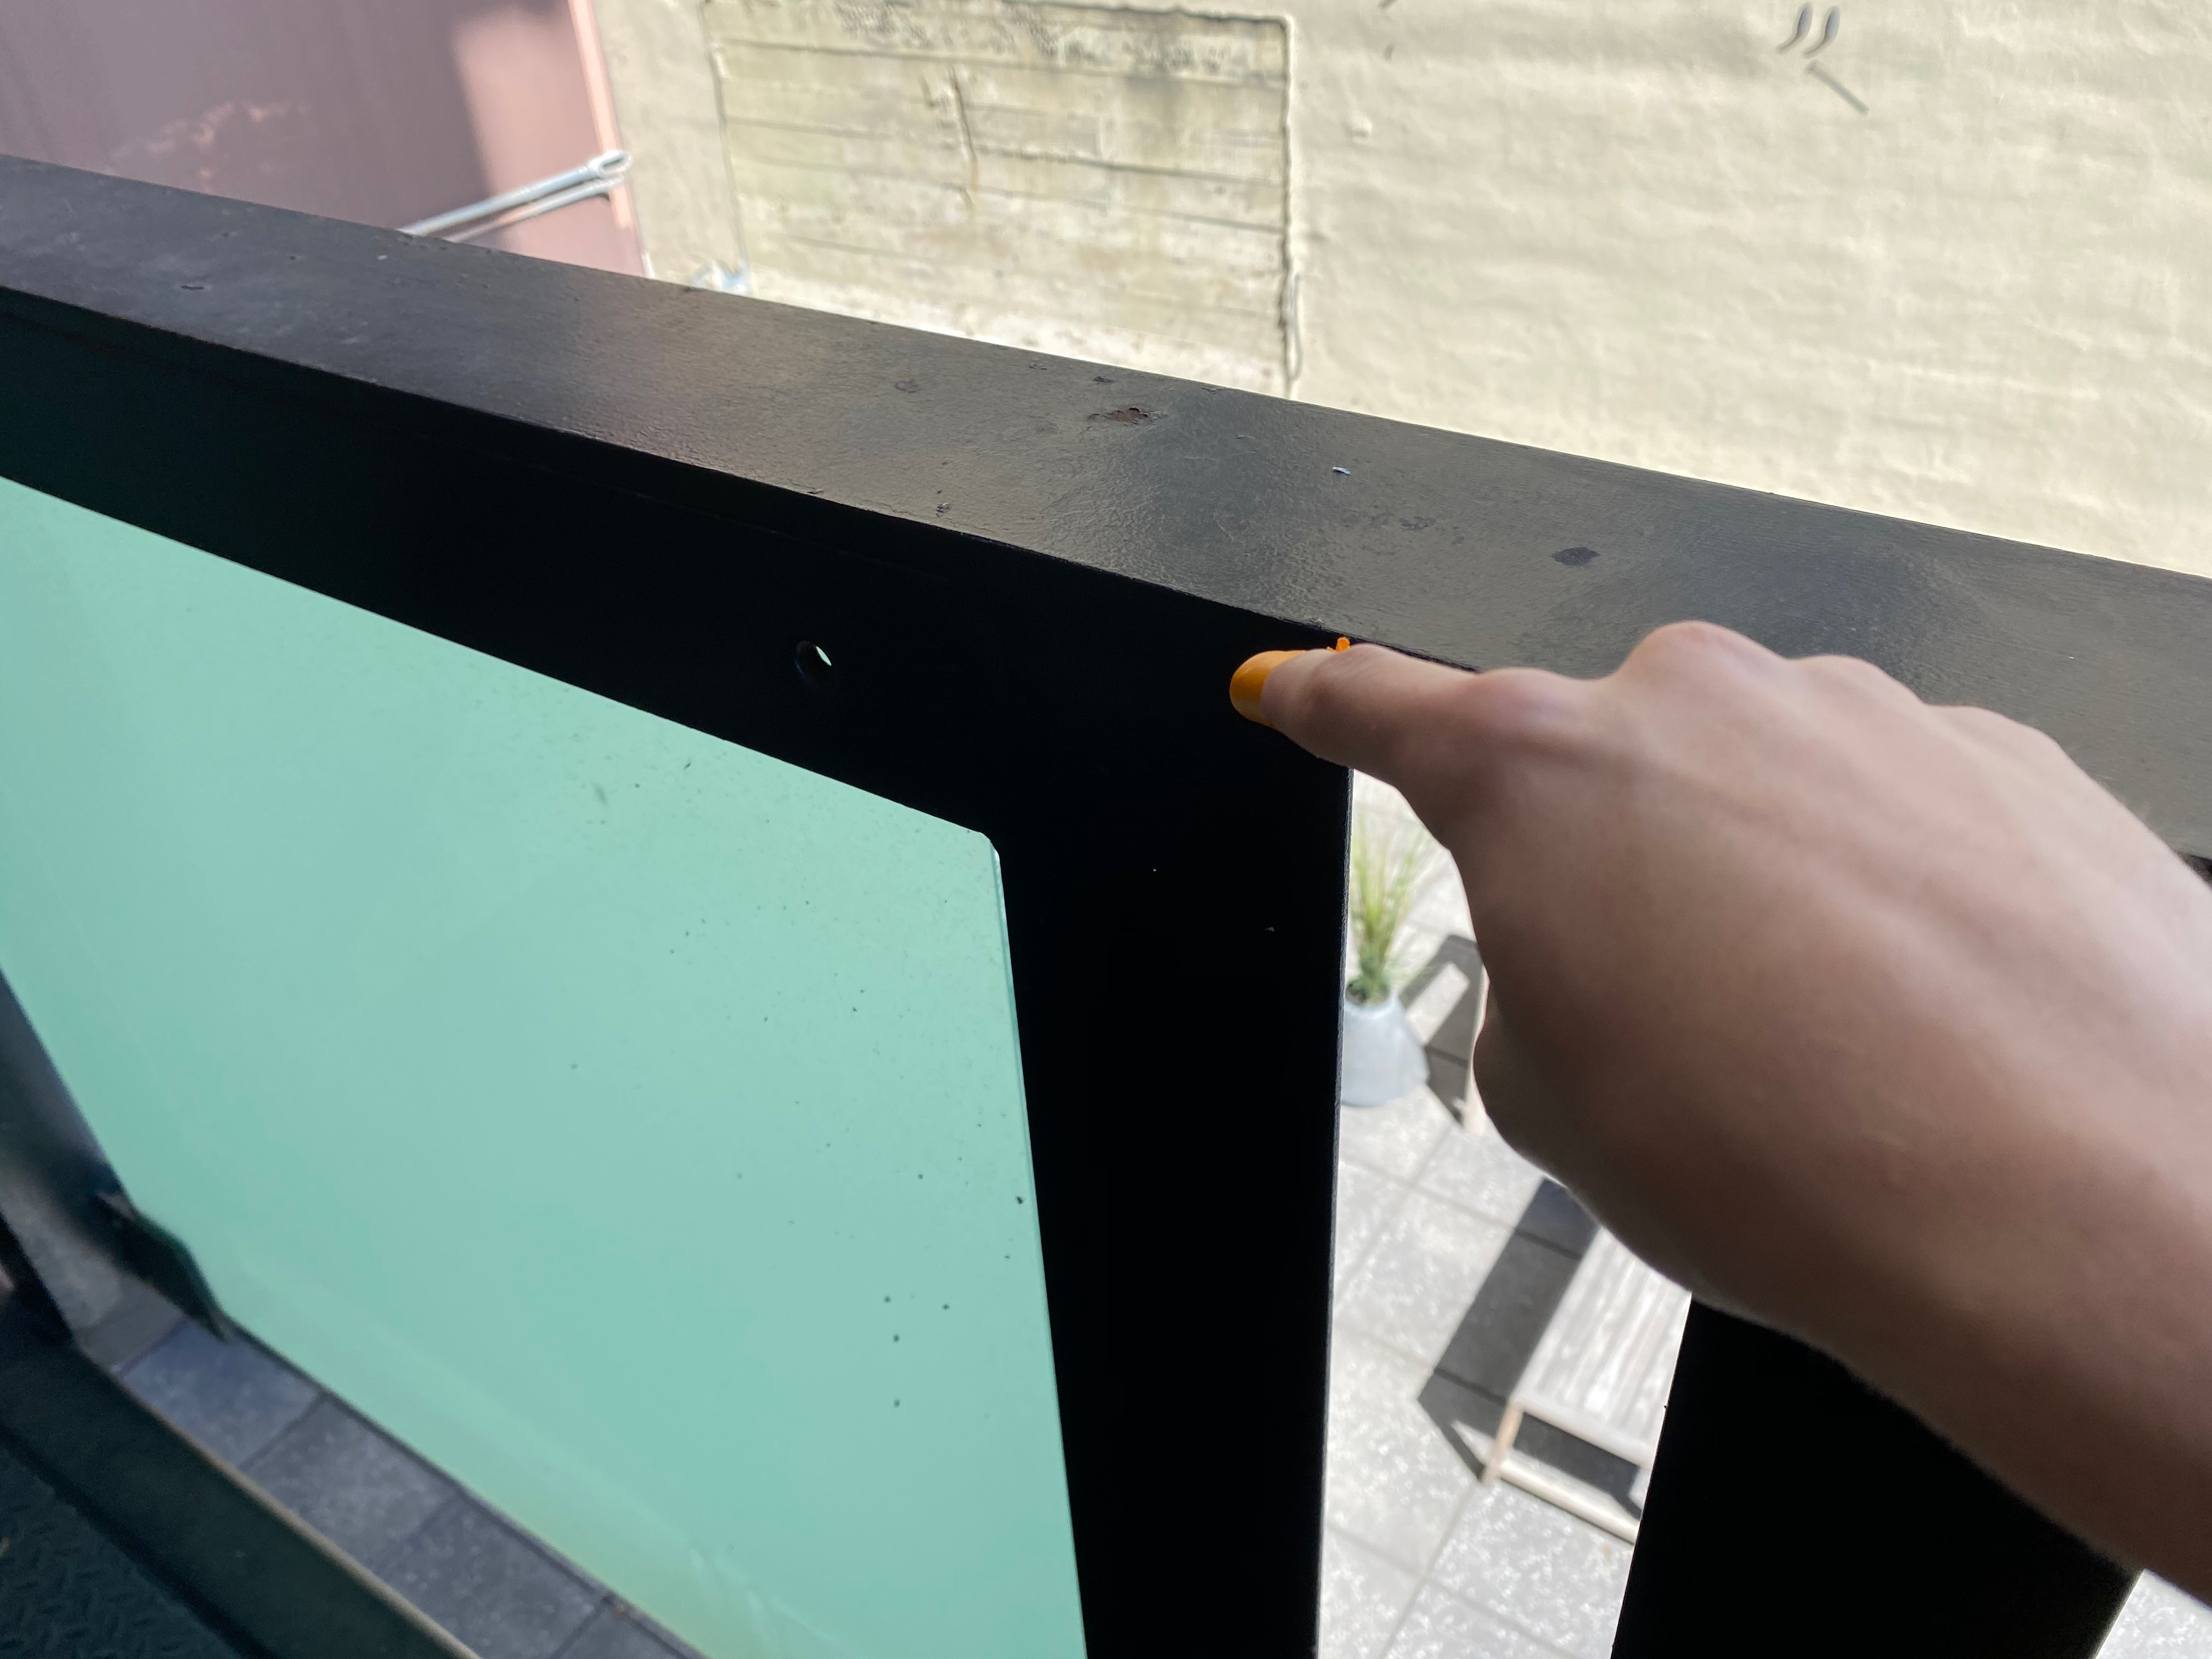fingertip: (1211, 633, 1350, 770)
